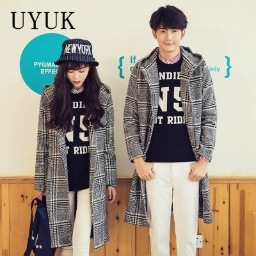face: (52, 53, 102, 100), (147, 3, 188, 55)
